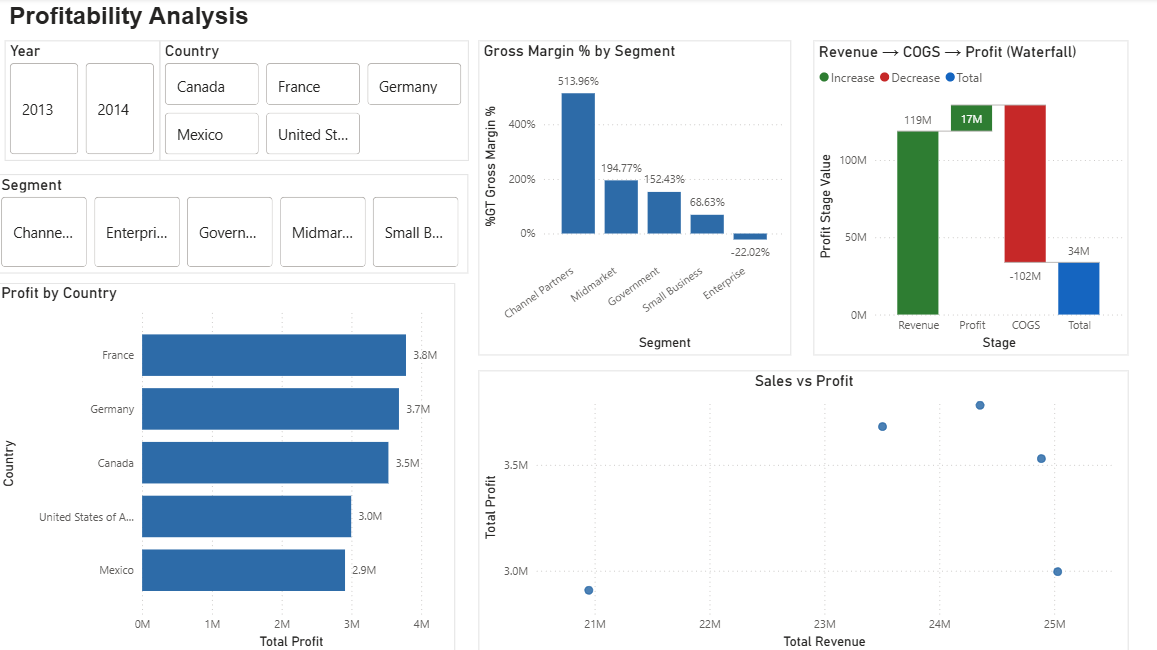

Layout of this report page (visuals, bound fields, positions):
{"tool":"powerbi","page":{"name":"Profitability Analysis ","canvas":[1280,720],"ordinal":1},"visuals":[{"type":"textbox","box":[9.6,0,279.9,46.7],"z":0},{"type":"clusteredBarChart","title":"Profit by Country","fields":{"Category":["financials.Country"],"Y":["financials.Total Profit"]},"box":[0,312.9,503.6,407.5],"z":1000},{"type":"clusteredColumnChart","title":"Gross Margin % by Segment","fields":{"Category":["financials.Segment"],"Y":["financials.Gross Margin %"]},"box":[529.7,46.7,343.1,345.8],"z":2000},{"type":"waterfallChart","title":"Revenue → COGS → Profit (Waterfall)","fields":{"Y":["financials.Profit Stage Value"],"Category":["Profit_Stages.Stage"]},"box":[897.4,46.7,345.8,345.8],"z":3000},{"type":"scatterChart","title":"Sales vs Profit ","fields":{"X":["financials.Total Revenue"],"Y":["financials.Total Profit"],"Category":["financials.Country"]},"box":[529.7,408.9,713.6,311.5],"z":4000},{"type":"advancedSlicerVisual","fields":{"Values":["financials.Year"]},"box":[9.6,46.7,170.2,131.7],"z":4001},{"type":"advancedSlicerVisual","fields":{"Values":["financials.Country"]},"box":[179.8,46.7,338.9,131.7],"z":4002},{"type":"advancedSlicerVisual","fields":{"Values":["financials.Segment"]},"box":[0,193.5,518.7,108.4],"z":4003}]}

Visuals, with their boxes in screenshot pixels (x1, y1, x2, y2), scaled from the page's 1280x720 canvas onto the 1157x650 screenshot:
textbox: (9, 0, 262, 42)
"Profit by Country" clusteredBarChart: (0, 282, 455, 649)
"Gross Margin % by Segment" clusteredColumnChart: (479, 42, 789, 354)
"Revenue → COGS → Profit (Waterfall)" waterfallChart: (811, 42, 1124, 354)
"Sales vs Profit " scatterChart: (479, 369, 1124, 649)
advancedSlicerVisual - financials.Year: (9, 42, 163, 161)
advancedSlicerVisual - financials.Country: (163, 42, 469, 161)
advancedSlicerVisual - financials.Segment: (0, 175, 469, 273)
